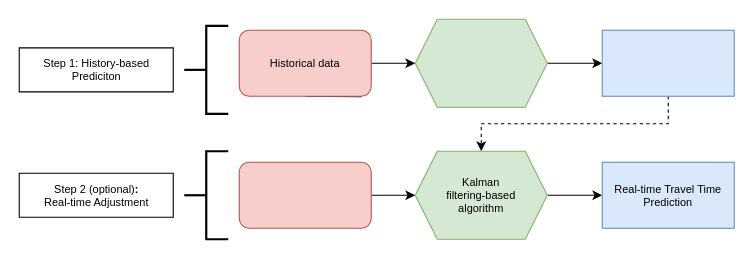
The diagram is 754 pixels wide and 260 high, and some of its shapes have lost their labels. The shapes that lost their labels are listed below. From the top down, each one's centre as x and y in pixels, then its label:
At point 480,62: "Well-trained SVM/ANN model".
At point 667,62: "Baseline Travel Time Prediction".
At point 304,194: "Latest travel time information".
